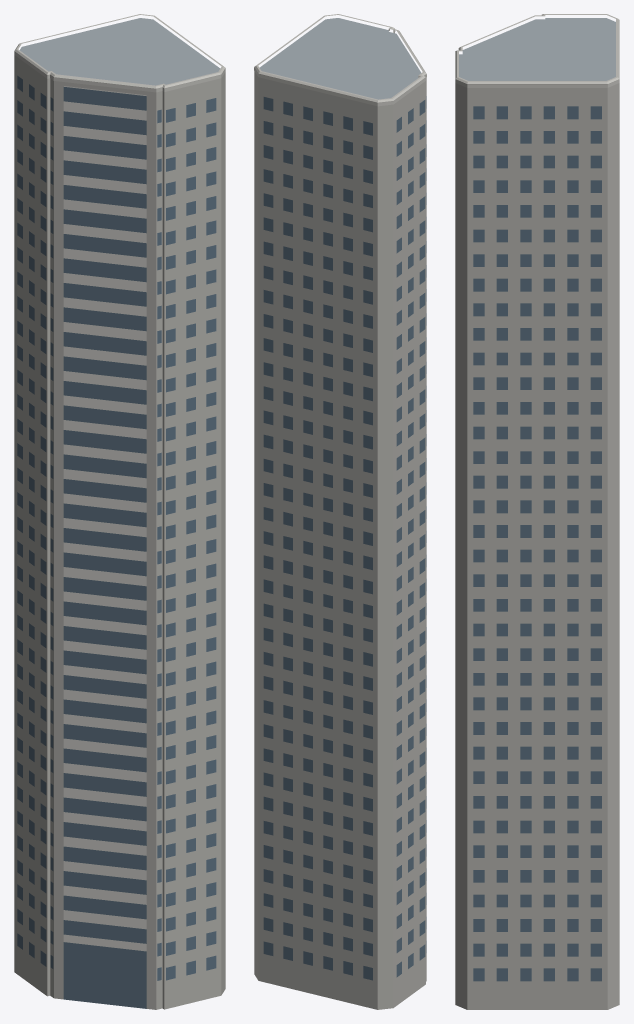
File: hou-jpmorgan-chase-tower.glb
The picture shows the model from 3 angles, left to right: view 1: azimuth 30°, elevation 25°; view 2: azimuth 150°, elevation 25°; view 3: azimuth 270°, elevation 25°; orthographic projection. The views are drawn at different scales.
Parts seen in each view (by area): view 1: JPMorgan Chase Tower; view 2: JPMorgan Chase Tower; view 3: JPMorgan Chase Tower.
Part boxes in pixels (box(x1,y1,x2,y2)): JPMorgan Chase Tower: box(14, 14, 225, 1009); JPMorgan Chase Tower: box(254, 14, 426, 1009); JPMorgan Chase Tower: box(455, 14, 619, 1009).
Bounding box in the file's own units: 49 × 305 × 49.
